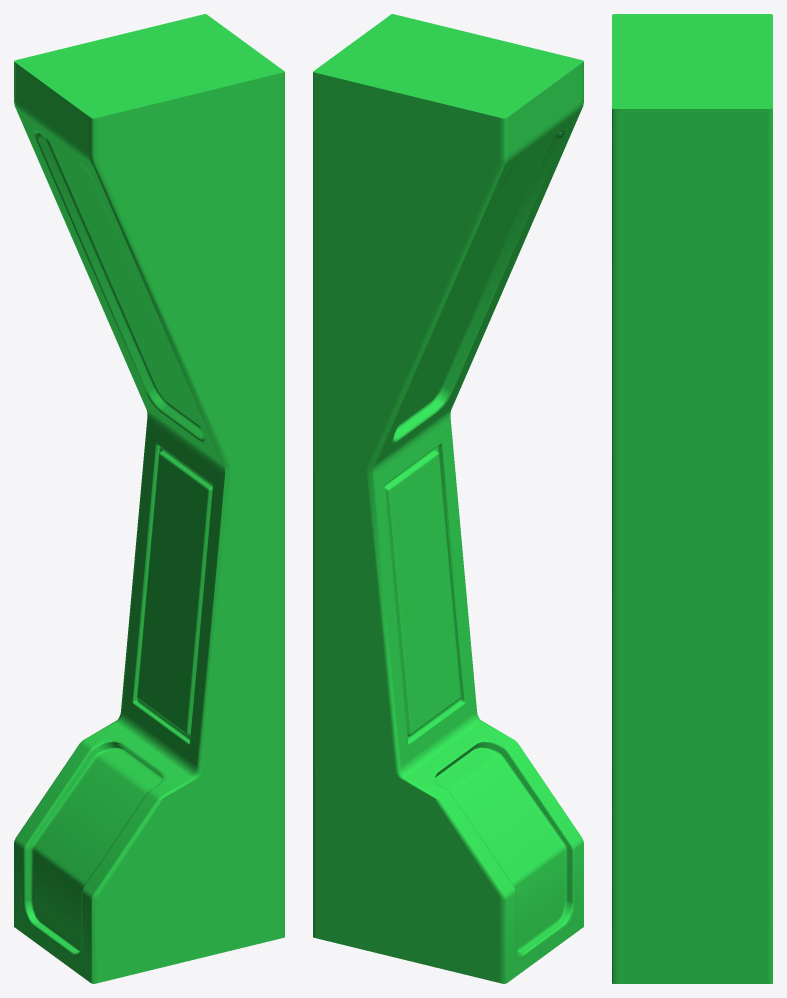
File: Column01.fbx
3 views of the same model, side by side, from view 1: azimuth 30°, elevation 25°; view 2: azimuth 150°, elevation 25°; view 3: azimuth 270°, elevation 25° (orthographic).
Parts seen in each view (by area): view 1: SM_Column01; view 2: SM_Column01; view 3: SM_Column01.
Boxes of the visible parts, x1,y1,x2,y2 form: SM_Column01: (14, 14, 284, 983); SM_Column01: (313, 14, 583, 983); SM_Column01: (612, 14, 772, 983).
Size of the model in its own units: 69.97 by 300 by 50.
